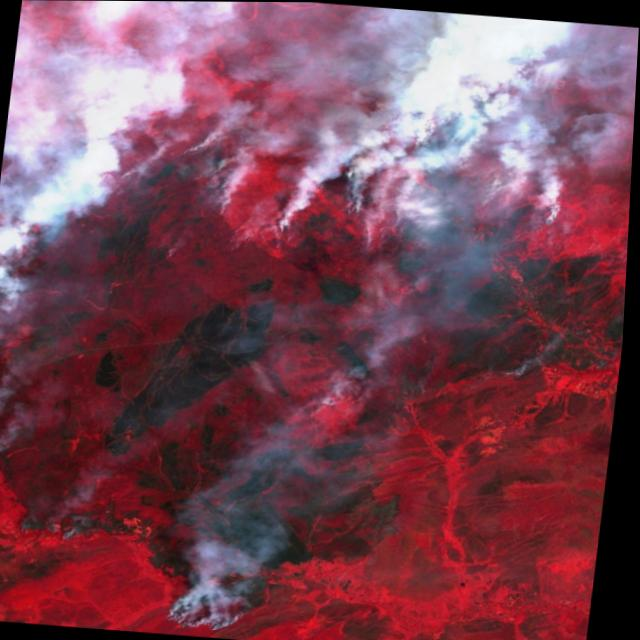fire: (0, 63, 589, 327), (158, 580, 260, 638)
